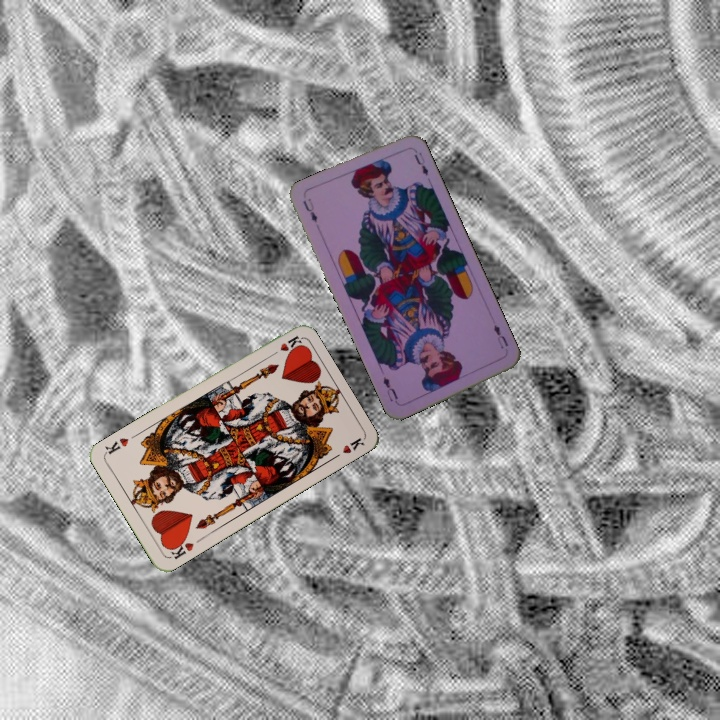EU: (489, 320, 511, 352), (299, 194, 320, 225)
HK: (265, 332, 303, 360), (164, 535, 196, 562)
